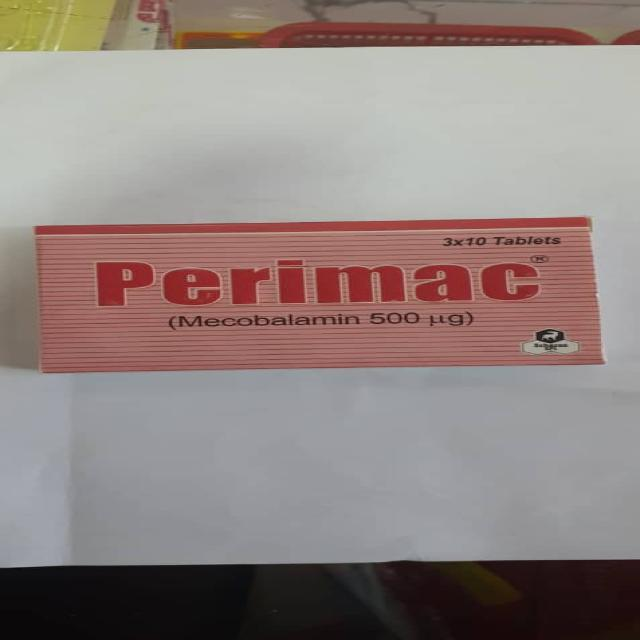drug-name: (92, 260, 540, 308)
